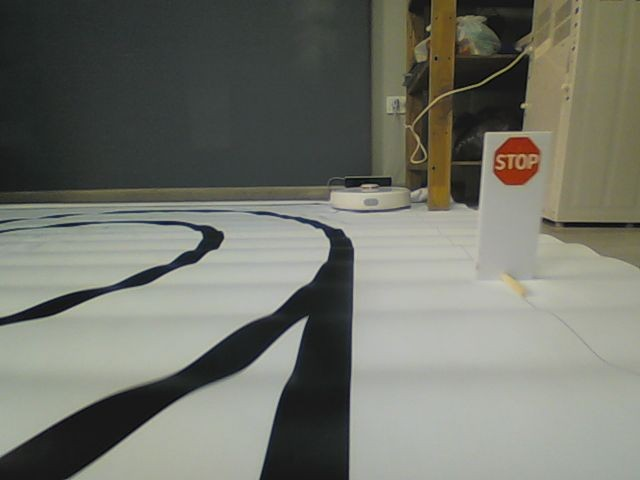Stop: (490, 135, 543, 187)
